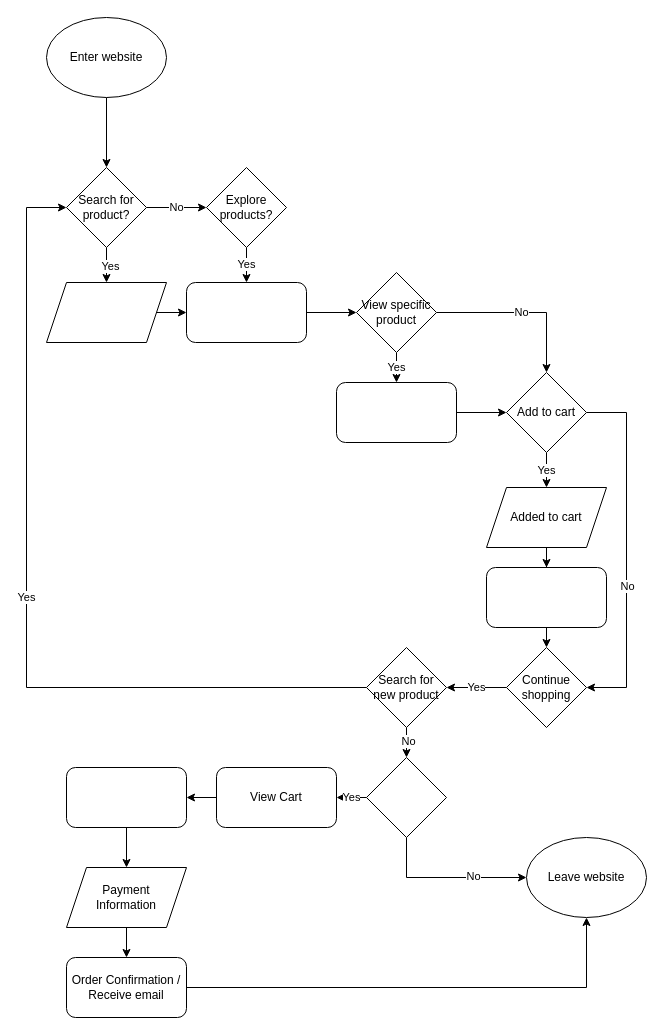
This 664x1035 diagram has some shape labels left out. The shapes that lost their labels are listed below. From the top down, each one's box as (x1, y1, x2, y2) in pixels, then its label:
(46, 282, 166, 342): Product input
(186, 282, 306, 342): Look over products
(336, 382, 456, 442): Product webpage opens
(486, 566, 606, 628): Add to cart confirmation
(66, 766, 186, 828): View Payment
(366, 756, 446, 838): Checkout
